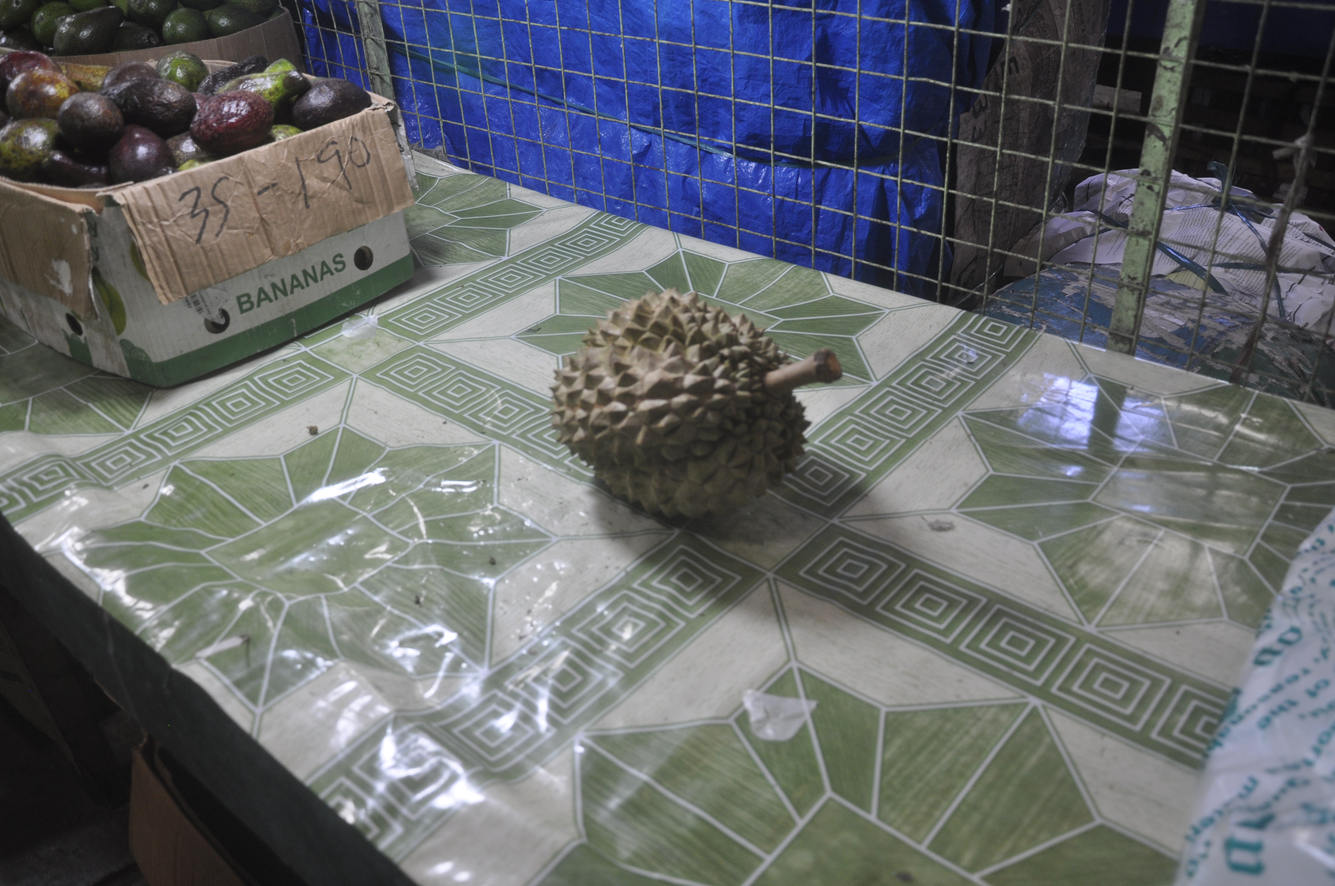mature: (551, 289, 841, 516)
